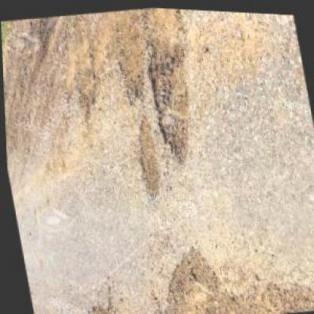Hueco: (138, 35, 208, 163), (128, 114, 165, 198)
